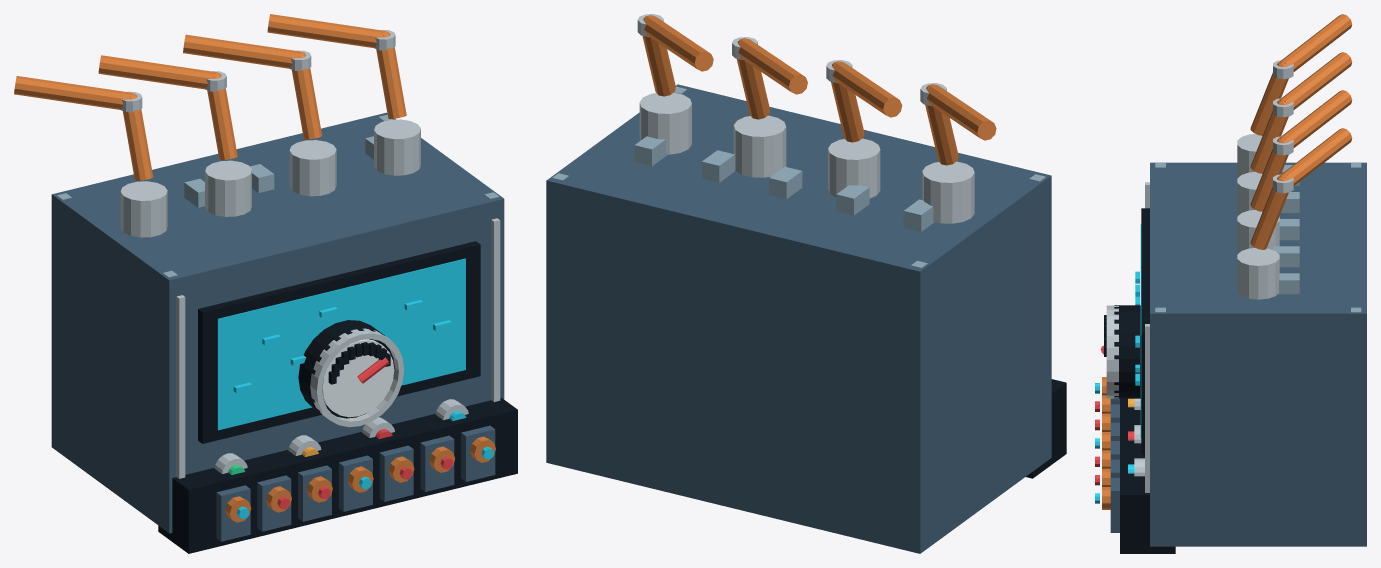
The model's file is 29_L73_CarrierPressureRegulator.fbx.
The picture shows the model from 3 angles, left to right: view 1: azimuth 30°, elevation 25°; view 2: azimuth 150°, elevation 25°; view 3: azimuth 270°, elevation 25°; orthographic projection. The views are drawn at different scales.
Visible parts, largest first — view 1: CarrierPressureRegulator; view 2: CarrierPressureRegulator; view 3: CarrierPressureRegulator.
Boxes of the visible parts, bbox=[...] form: CarrierPressureRegulator: bbox=[14, 14, 517, 553]; CarrierPressureRegulator: bbox=[546, 14, 1066, 553]; CarrierPressureRegulator: bbox=[1095, 14, 1366, 553].
Bounding box in the file's own units: 133 × 131 × 87.7.
